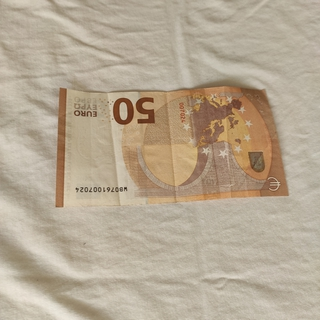50EUROBack: (53, 84, 289, 207)
